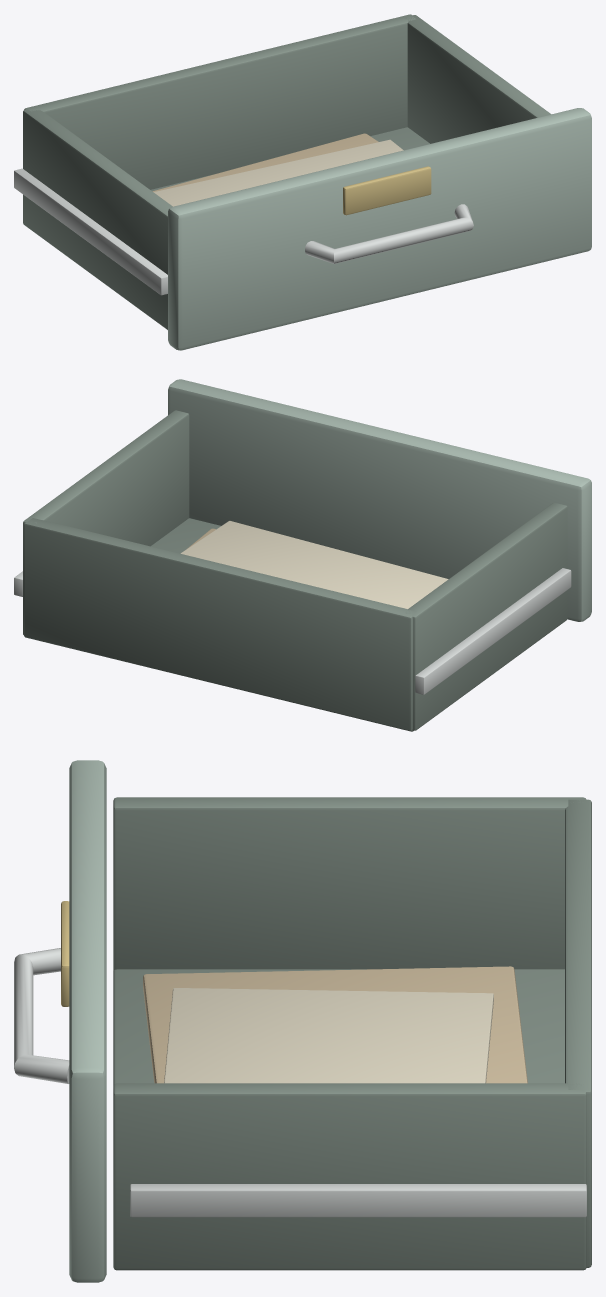
File: CTCC_PROP_InteractiveDrawer.fbx
3 views of the same model, one above another, from view 1: azimuth 30°, elevation 25°; view 2: azimuth 150°, elevation 25°; view 3: azimuth 270°, elevation 25° (orthographic). The views are drawn at different scales.
Visible parts, largest first — view 1: CTCC_PROP_InteractiveDrawer; view 2: CTCC_PROP_InteractiveDrawer; view 3: CTCC_PROP_InteractiveDrawer.
Boxes of the visible parts, bbox=[...] form: CTCC_PROP_InteractiveDrawer: bbox=[14, 14, 591, 350]; CTCC_PROP_InteractiveDrawer: bbox=[14, 379, 591, 731]; CTCC_PROP_InteractiveDrawer: bbox=[14, 760, 591, 1282].
Size of the model in its own units: 0.44 by 0.14 by 0.3417.
